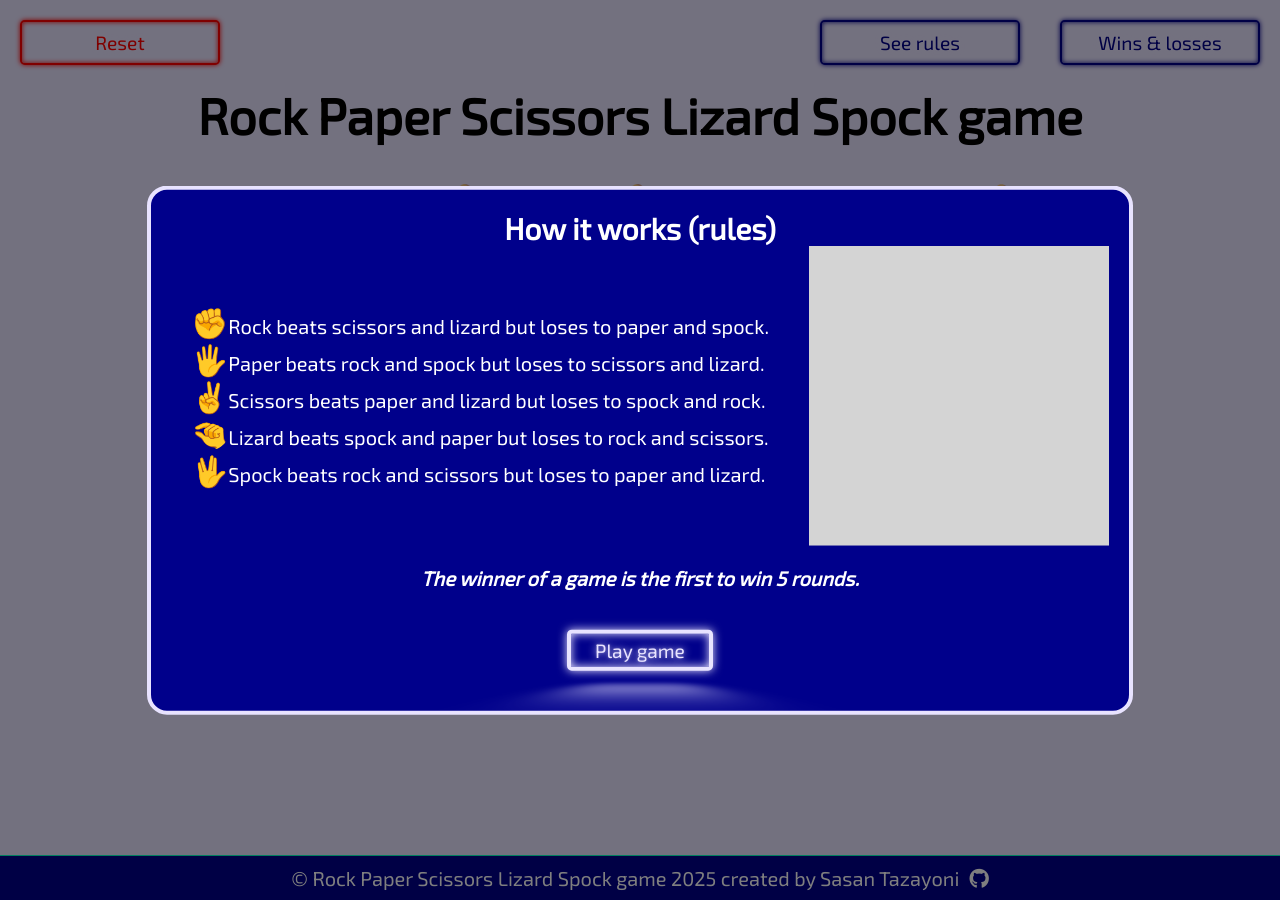
Test: RulesModal behavior › clicking See rules button re‑opens the Rules modal (openRulesModal)
Click the button "Play game": [640, 650] box [567,630,713,670]
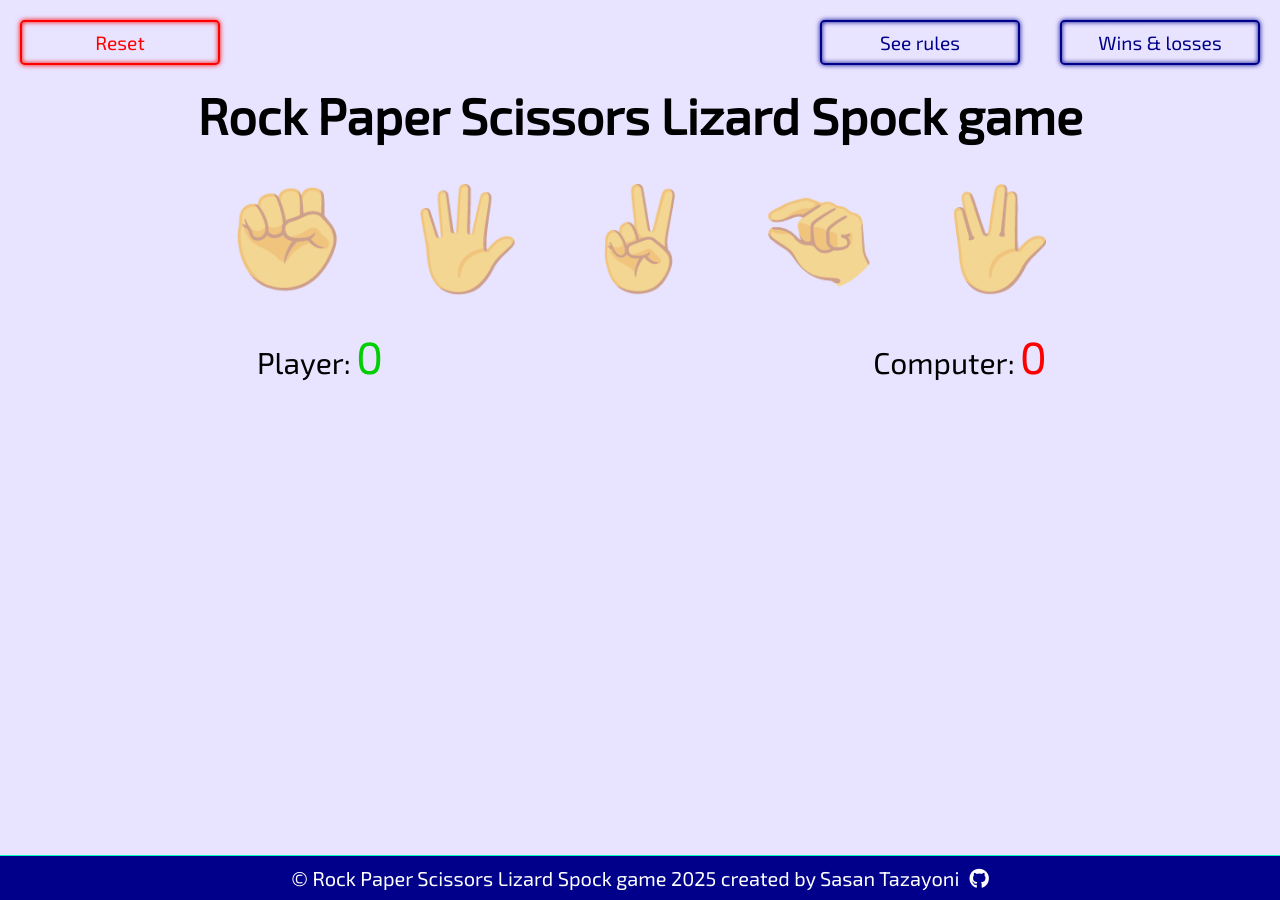
Expected: the dialog with test id "rules-modal" is gone
Click the button with aria-label "See Rules Button": [920, 42] box [820,20,1020,65]
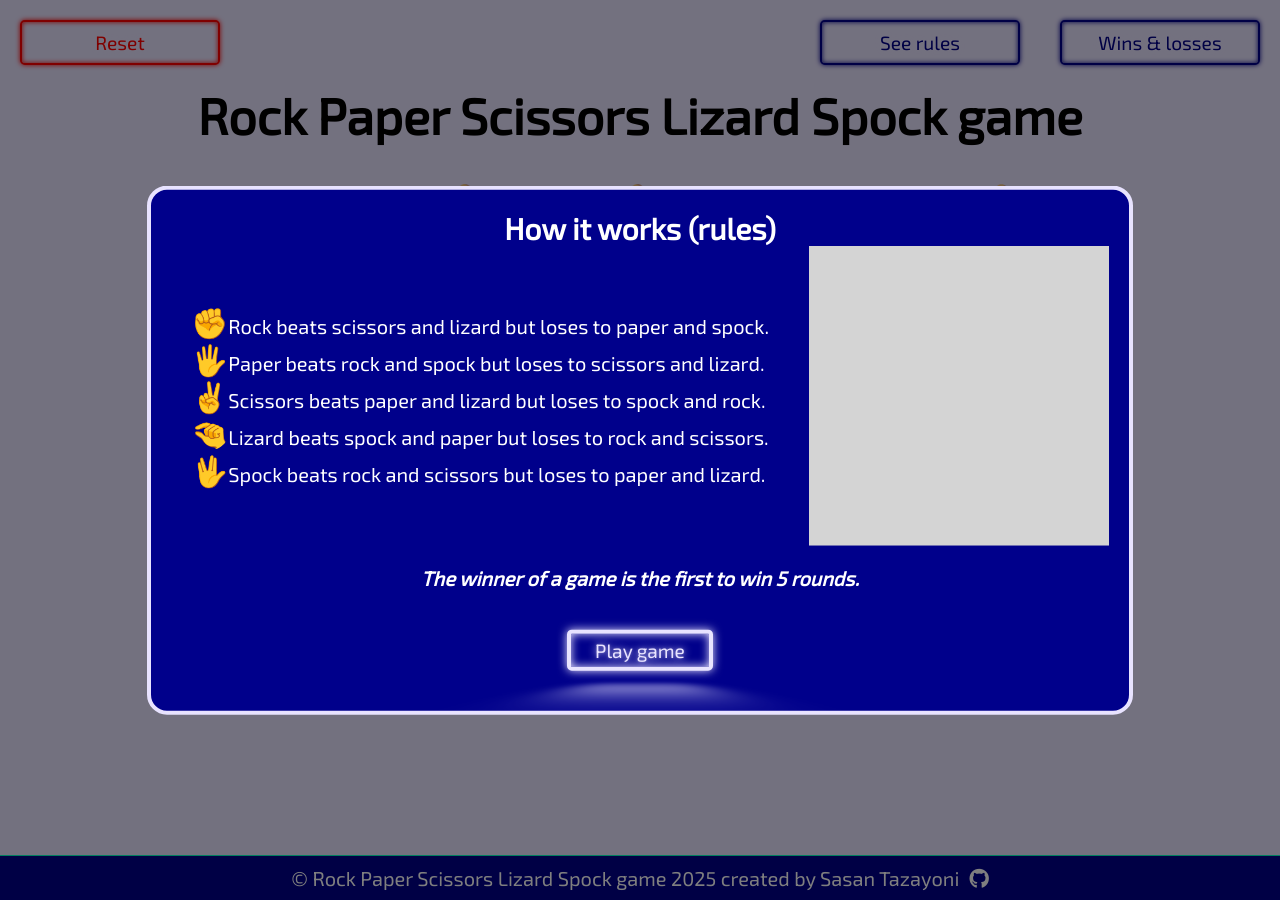
Expected: the dialog with test id "rules-modal" is shown, [147,186,1133,714]
